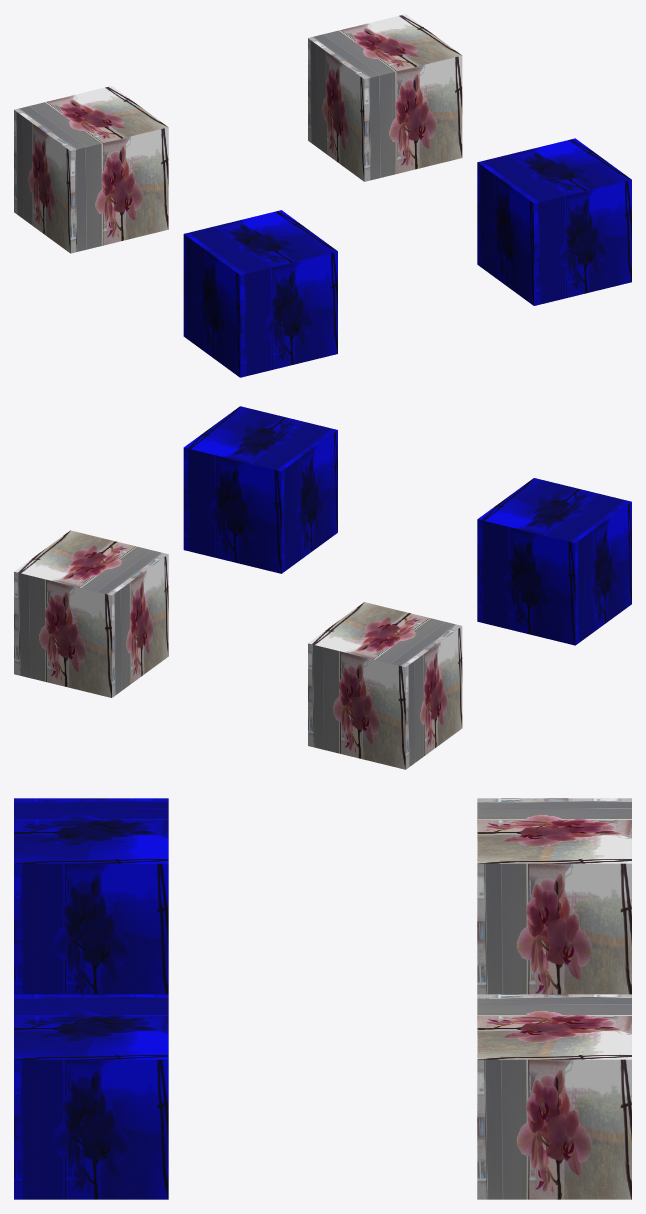
Rendered from RGBMultiplyMap.gltf.
3 views of the same model, one above another, from view 1: azimuth 30°, elevation 25°; view 2: azimuth 150°, elevation 25°; view 3: azimuth 270°, elevation 25° (orthographic). The views are drawn at different scales.
Parts seen in each view (by area): view 1: BoxStandardMaterial_noMultiply, BoxStandardMaterial_multiply, BoxPhysicalMaterial_noMultiply, BoxPhysicalMaterial_multiply; view 2: BoxStandardMaterial_noMultiply, BoxStandardMaterial_multiply, BoxPhysicalMaterial_noMultiply, BoxPhysicalMaterial_multiply; view 3: BoxPhysicalMaterial_noMultiply, BoxPhysicalMaterial_multiply, BoxStandardMaterial_noMultiply, BoxStandardMaterial_multiply.
Boxes of the visible parts, x1=… form: BoxStandardMaterial_noMultiply: x1=14, y1=86, x2=168, y2=253; BoxStandardMaterial_multiply: x1=183, y1=210, x2=337, y2=377; BoxPhysicalMaterial_noMultiply: x1=308, y1=14, x2=462, y2=181; BoxPhysicalMaterial_multiply: x1=477, y1=138, x2=631, y2=305; BoxStandardMaterial_noMultiply: x1=308, y1=602, x2=462, y2=769; BoxStandardMaterial_multiply: x1=477, y1=478, x2=631, y2=645; BoxPhysicalMaterial_noMultiply: x1=14, y1=530, x2=168, y2=697; BoxPhysicalMaterial_multiply: x1=183, y1=406, x2=337, y2=573; BoxPhysicalMaterial_noMultiply: x1=477, y1=994, x2=631, y2=1199; BoxPhysicalMaterial_multiply: x1=14, y1=994, x2=168, y2=1199; BoxStandardMaterial_noMultiply: x1=477, y1=798, x2=631, y2=994; BoxStandardMaterial_multiply: x1=14, y1=798, x2=168, y2=994.
Size of the model in its own units: 4 by 1 by 4.
Materials: 4 (4 with a texture image).
